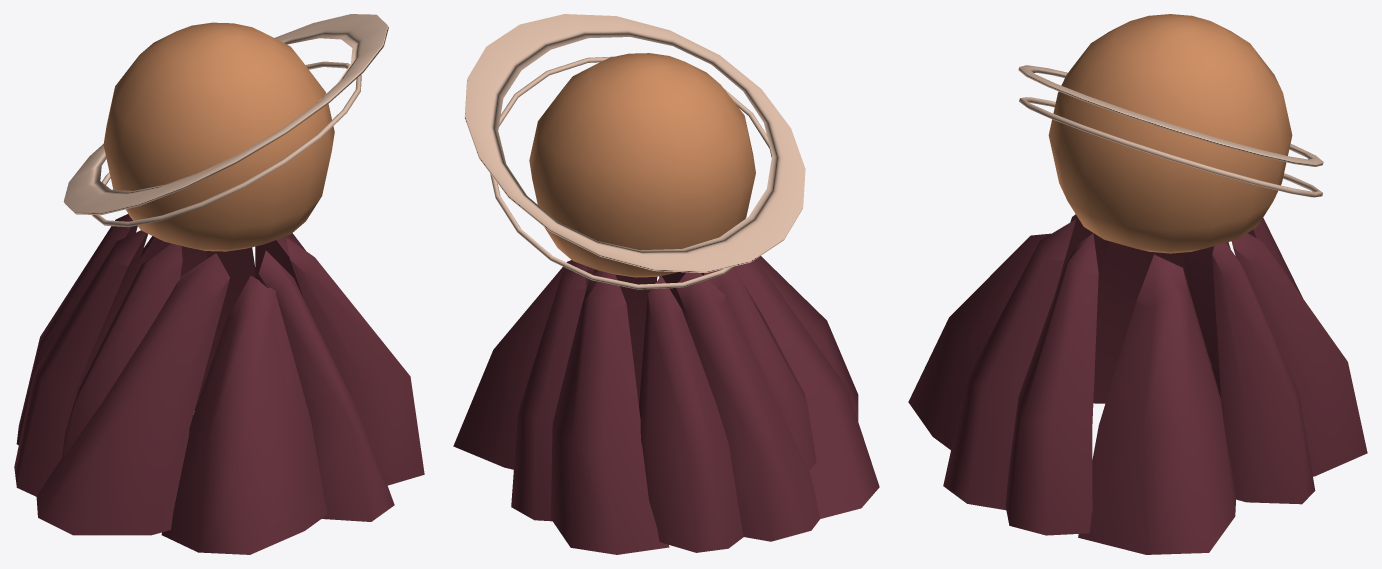
Rendered from Prop_trash.fbx.
3 renders of one model, left to right at view 1: azimuth 30°, elevation 25°; view 2: azimuth 150°, elevation 25°; view 3: azimuth 270°, elevation 25°, orthographic. The views are drawn at different scales.
Parts seen in each view (by area): view 1: Prop_Trash_A, Prop_Trash_B; view 2: Prop_Trash_A, Prop_Trash_B; view 3: Prop_Trash_A, Prop_Trash_B.
Part boxes in pixels (x1=…): Prop_Trash_A: x1=14, y1=214, x2=424, y2=554; Prop_Trash_B: x1=63, y1=14, x2=388, y2=251; Prop_Trash_A: x1=453, y1=256, x2=879, y2=554; Prop_Trash_B: x1=464, y1=14, x2=805, y2=289; Prop_Trash_A: x1=908, y1=214, x2=1367, y2=554; Prop_Trash_B: x1=1018, y1=14, x2=1323, y2=253.
Bounding box in the file's own units: 589 × 645 × 595.
